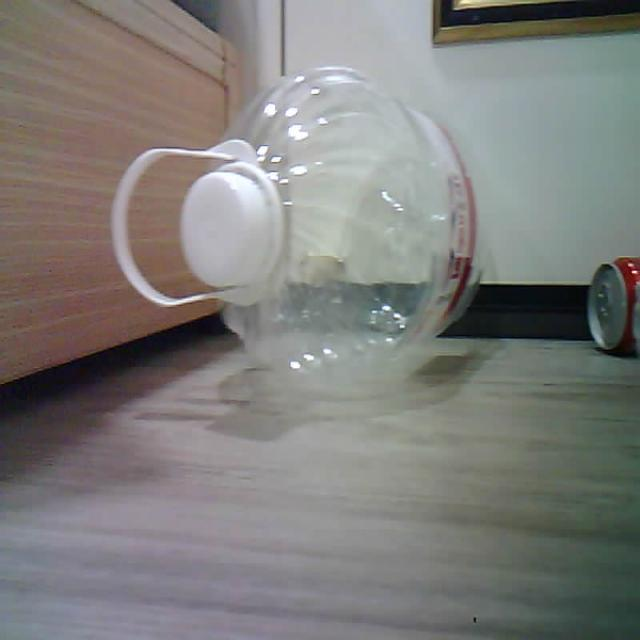bottle: (111, 67, 481, 382)
can: (588, 257, 639, 354)
